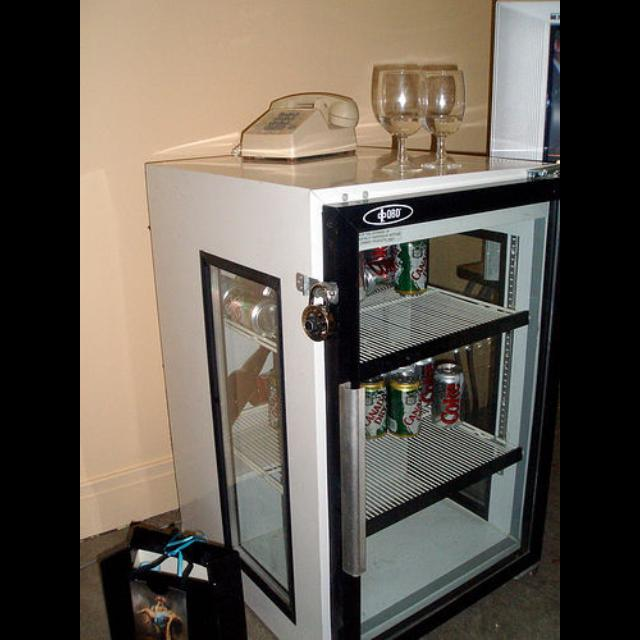Refrigerator: (143, 141, 560, 631)
